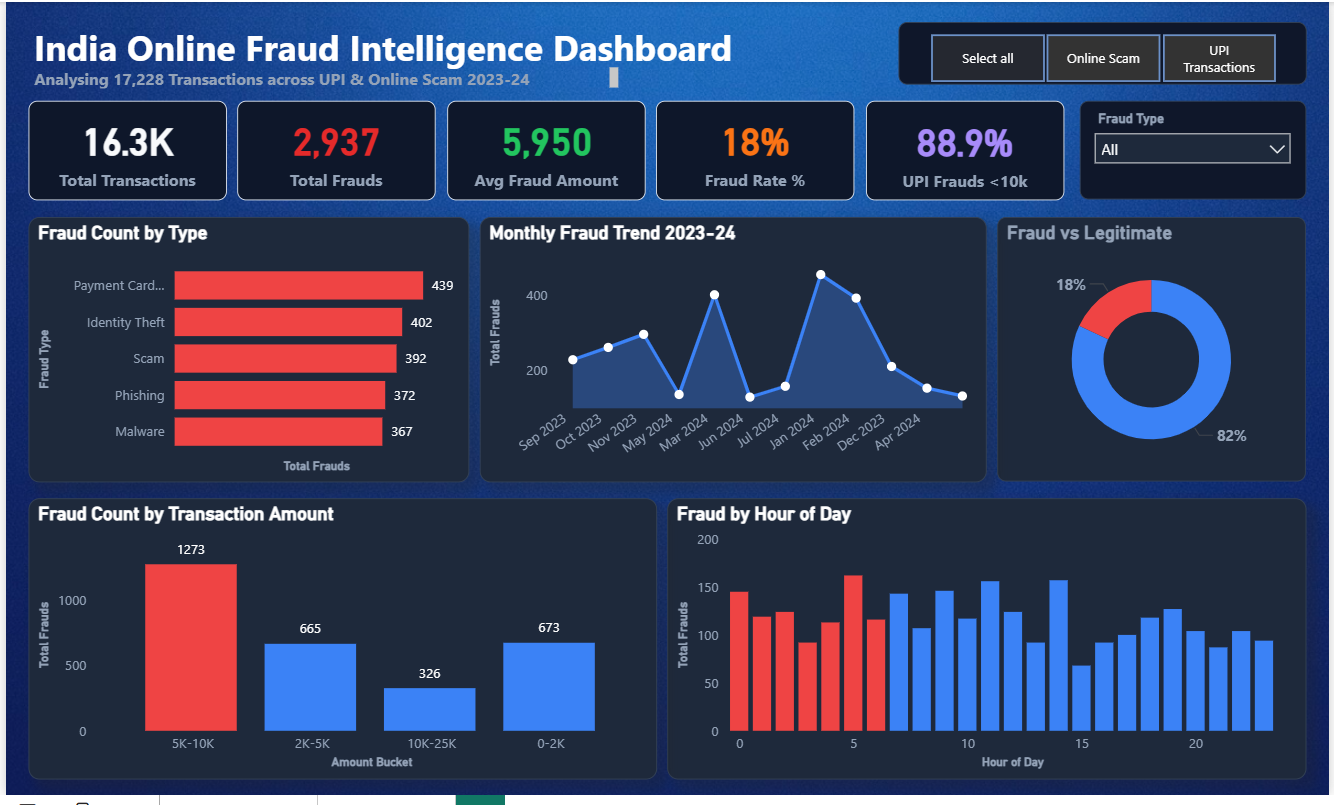

The page's visual inventory and layout, read from the dashboard file:
{"tool":"powerbi","page":{"name":"Fraud Overview","canvas":[1200,720],"ordinal":0},"visuals":[{"type":"card","fields":{"Values":["Master_Fraud_Table.Total_Transactions"]},"box":[20,90,180,90.4],"z":0},{"type":"card","title":"hello","fields":{"Values":["Master_Fraud_Table.Fraud_Rate_%"]},"box":[590,90,180,90.4],"z":1000},{"type":"card","fields":{"Values":["Master_Fraud_Table.Total_Frauds"]},"box":[210,90,180,90.4],"z":2000},{"type":"card","fields":{"Values":["Master_Fraud_Table.Avg_Fraud_Amount"]},"box":[400,90,180.1,90],"z":3000},{"type":"donutChart","title":"Fraud vs Legitimate","fields":{"Category":["Master_Fraud_Table.IS_Fraudulent"],"Y":["Master_Fraud_Table.Total_Transactions"]},"box":[900,195,280,240],"z":4000},{"type":"clusteredBarChart","title":"Fraud Count by Type","fields":{"Category":["Master_Fraud_Table.Fraud_Type"],"Y":["Master_Fraud_Table.Total_Frauds"]},"box":[20.4,195,400,240.8],"z":5000},{"type":"areaChart","title":"Monthly Fraud Trend 2023-24","fields":{"Category":["Master_Fraud_Table.Month_Name"],"Y":["Master_Fraud_Table.Total_Frauds"]},"box":[430,195,460,240.8],"z":6000},{"type":"textbox","box":[20,15,677.2,59.6],"z":7000},{"type":"clusteredColumnChart","title":"Fraud by Hour of Day","fields":{"Category":["Master_Fraud_Table.Hour_of_Day"],"Y":["Master_Fraud_Table.Total_Frauds"]},"box":[600,450,580,255],"z":8000},{"type":"clusteredColumnChart","title":"Fraud Count by Transaction Amount","fields":{"Category":["Master_Fraud_Table.Amount_Bucket"],"Y":["Master_Fraud_Table.Total_Frauds"]},"box":[20,450,570,255],"z":9000},{"type":"card","title":"hello","fields":{"Values":["_Measures.UPI Frauds <10k"]},"box":[780,90,180,90.7],"z":10000},{"type":"slicer","fields":{"Values":["Master_Fraud_Table.Fraud_Type"]},"box":[974.7,89.7,205.2,89.7],"z":11000},{"type":"textbox","box":[20,55,540.2,29.4],"z":12000},{"type":"slicer","fields":{"Values":["Master_Fraud_Table.DataSource"]},"box":[809.7,18.3,370.4,56.8],"z":13001}]}

Visuals, with their boxes in screenshot pixels (x1, y1, x2, y2), scaled from the page's 1200x720 canvas onto the 1334x805 screenshot:
card - Master_Fraud_Table.Total_Transactions: Rect(22, 101, 222, 202)
"hello" card: Rect(656, 101, 856, 202)
card - Master_Fraud_Table.Total_Frauds: Rect(233, 101, 434, 202)
card - Master_Fraud_Table.Avg_Fraud_Amount: Rect(445, 101, 645, 201)
"Fraud vs Legitimate" donutChart: Rect(1000, 218, 1312, 486)
"Fraud Count by Type" clusteredBarChart: Rect(23, 218, 467, 487)
"Monthly Fraud Trend 2023-24" areaChart: Rect(478, 218, 989, 487)
textbox: Rect(22, 17, 775, 83)
"Fraud by Hour of Day" clusteredColumnChart: Rect(667, 503, 1312, 788)
"Fraud Count by Transaction Amount" clusteredColumnChart: Rect(22, 503, 656, 788)
"hello" card: Rect(867, 101, 1067, 202)
slicer - Master_Fraud_Table.Fraud_Type: Rect(1084, 100, 1312, 201)
textbox: Rect(22, 61, 623, 94)
slicer - Master_Fraud_Table.DataSource: Rect(900, 20, 1312, 84)
